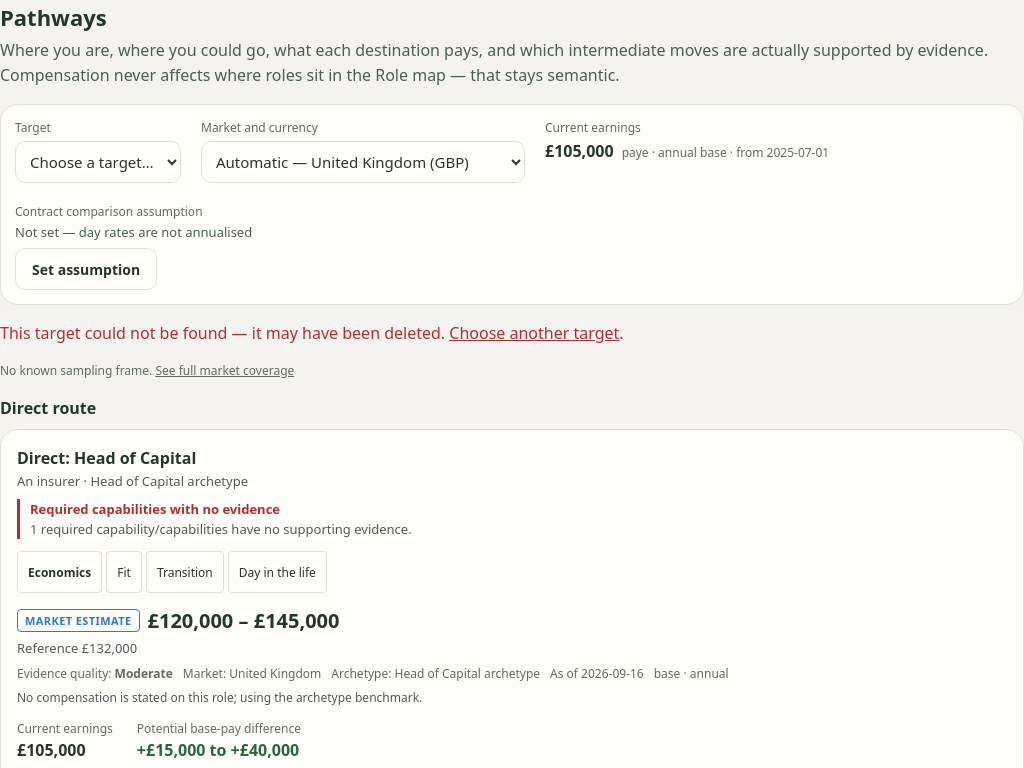
Test case: Pathways › states what the transition view deliberately does not estimate
Expected: the text "Direct: Head of Capital" is shown, [17, 447, 196, 469]
What coordinates should you click on to do the following:
click the tab "Transition"
I would click on:
 (185, 572)
Its box is [146, 551, 224, 593].
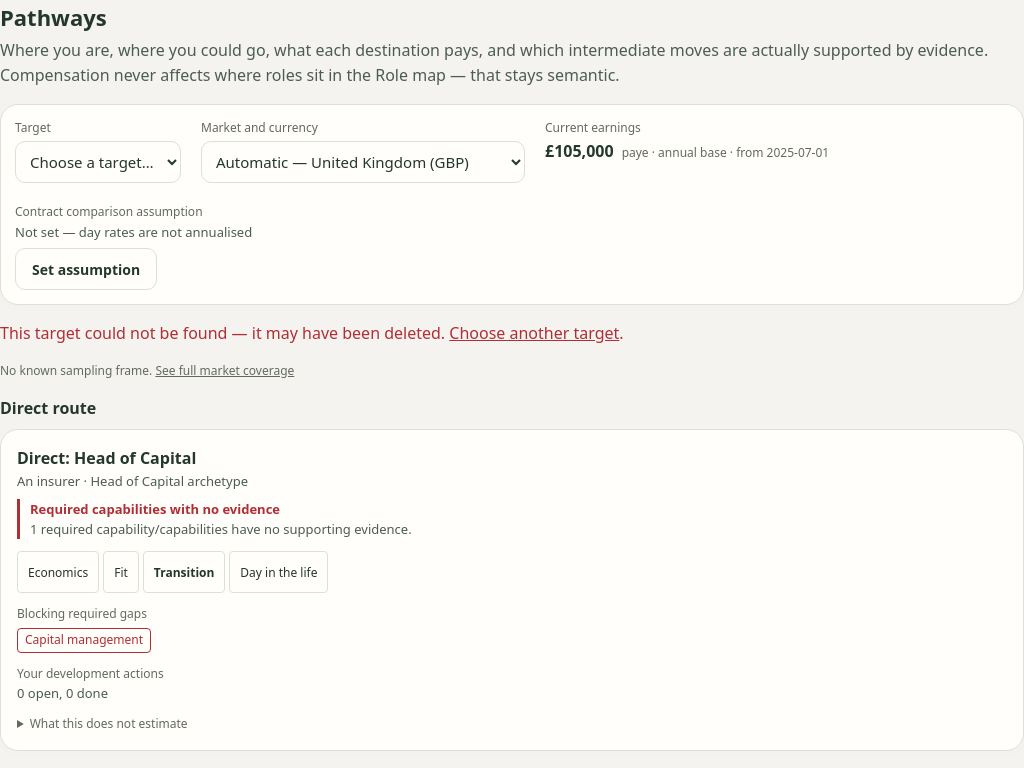
What coordinates should you click on to do the following:
click the heading "What this does not estimate"
I would click on:
 (109, 724)
Its box is [30, 715, 188, 732].
(page scrolled)
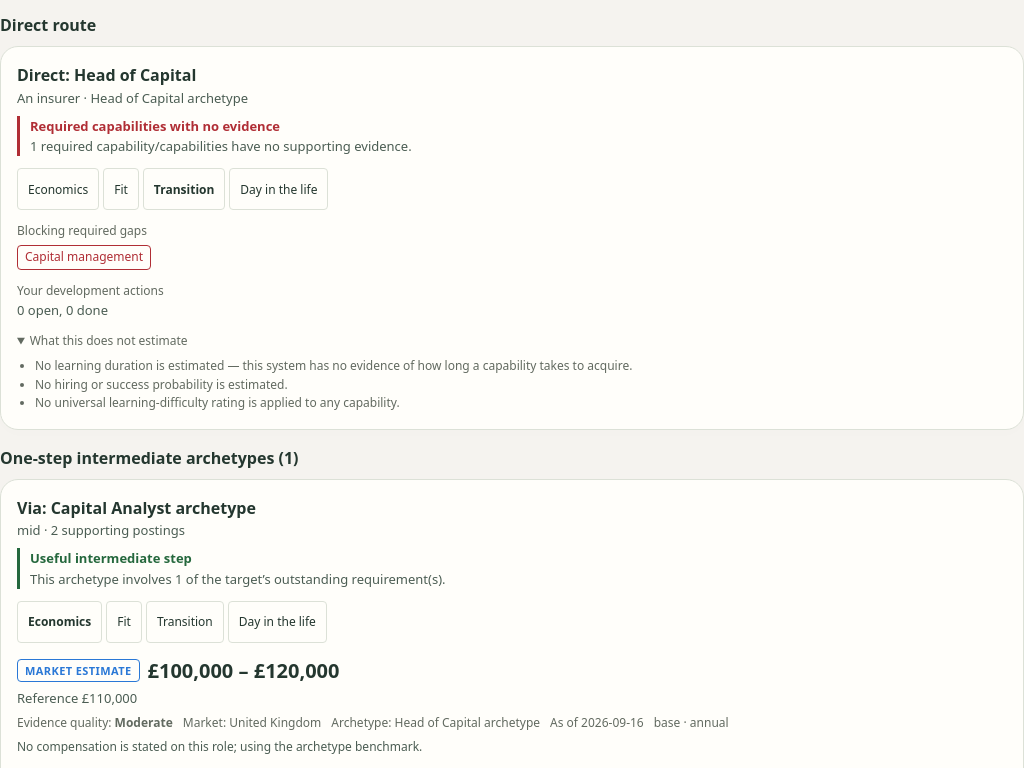
Expected: the list item "No learning duration is estimated" is shown, [35, 357, 632, 374]
Expected: the list item "No hiring or success probability is estimated." is shown, [35, 376, 288, 392]
